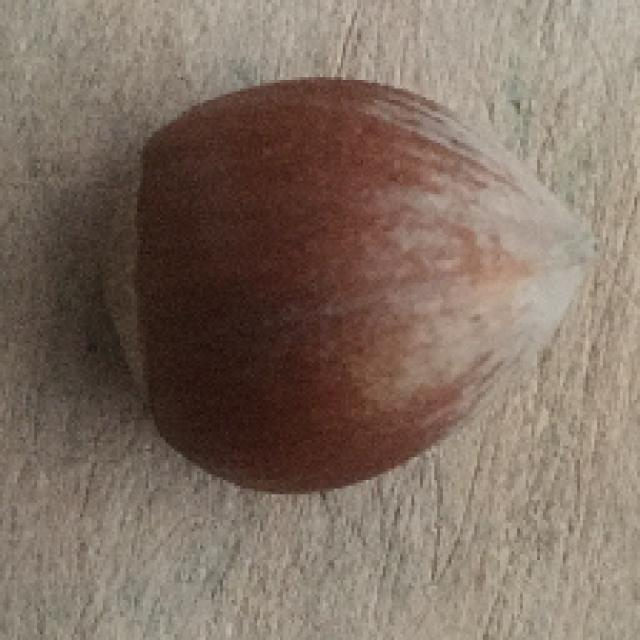qualityHazelnut: (107, 76, 602, 493)
